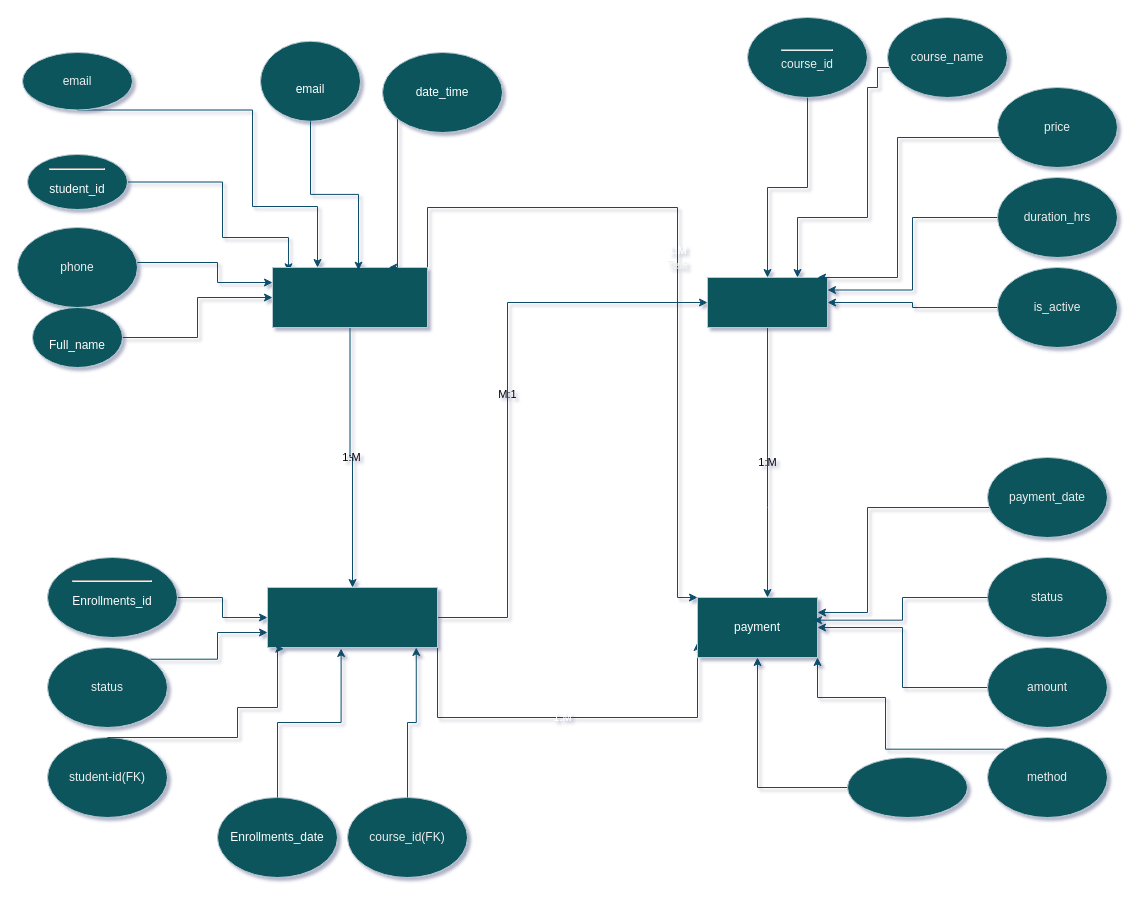
Image size: 1141x901. Some labels were removed from this diagram. The centre of each missing label's shape, as x and y in pixels:
"Course" belongs at point (767, 302).
"Enrollments" belongs at point (352, 617).
"payment_id" belongs at point (907, 787).
"Students" belongs at point (350, 297).
